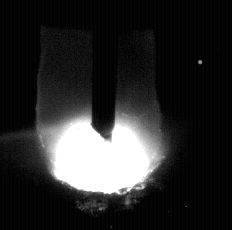arame: (92, 0, 117, 143)
poca: (36, 0, 164, 230)
